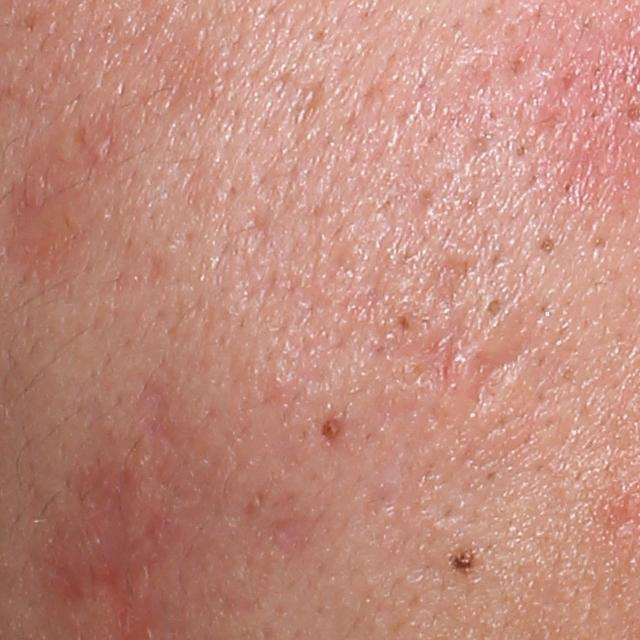atrophic_scar: (455, 329, 554, 413), (420, 254, 478, 311)
comedo: (485, 295, 506, 322), (538, 235, 558, 254)
nevus: (447, 546, 484, 578), (319, 412, 340, 439)
